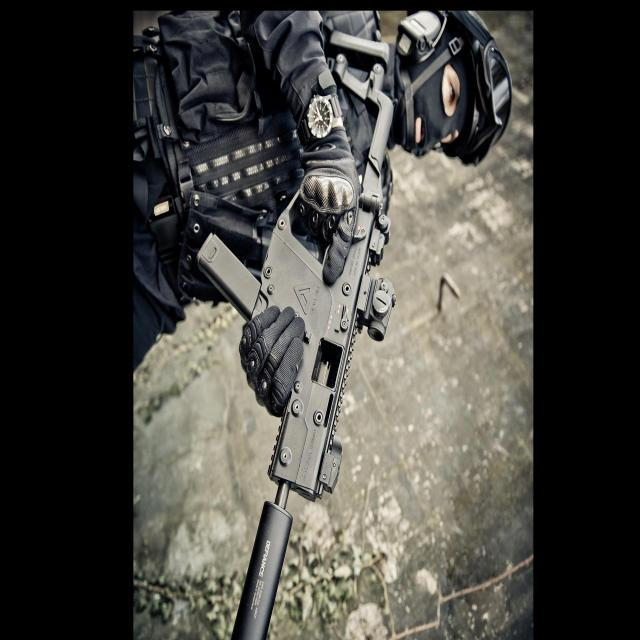weapon: (194, 29, 398, 640)
